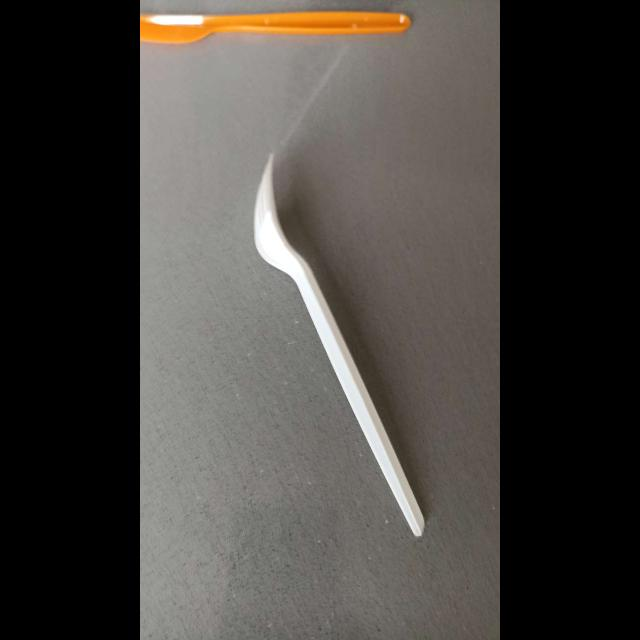plastic_cultery: (247, 149, 437, 545), (140, 7, 426, 45)
